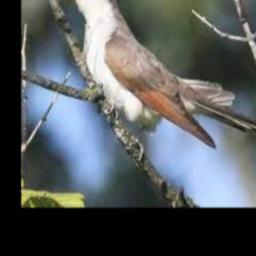Cuckoo: (63, 0, 235, 149)
